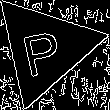P_N: (20, 19, 69, 77)
